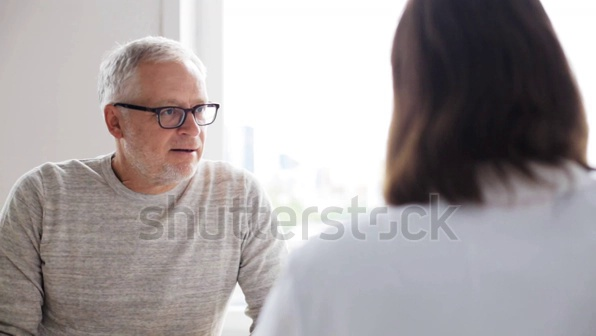No Mask: (94, 43, 225, 185)
